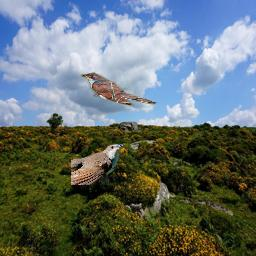Cuckoo: (80, 71, 158, 108), (71, 144, 125, 185)
